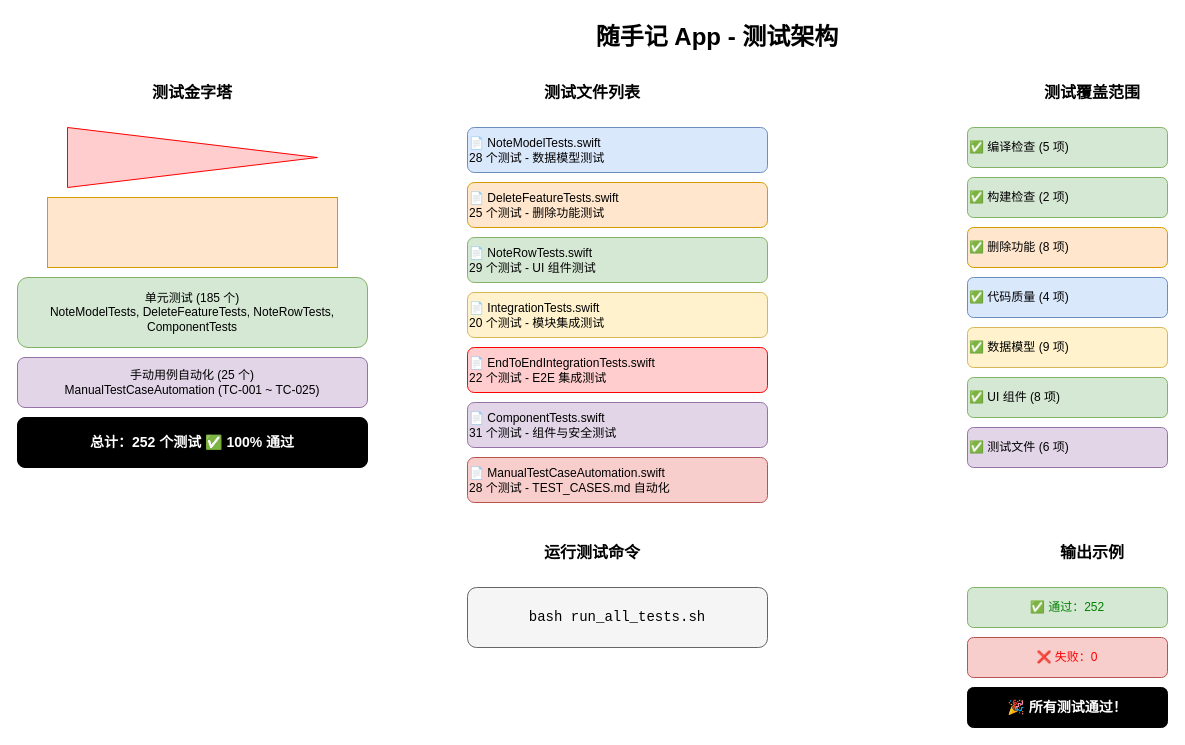
Some shapes in this 1185 by 745 pixel diagram are drawn without their labels. Here are the shapes that lost their labels. From the top down, the centre of each, then its label:
At point 192,157: "E2E 测试 (22 个) EndToEndIntegrationTests".
At point 192,232: "集成测试 (42 个) IntegrationTests + EndToEnd".
